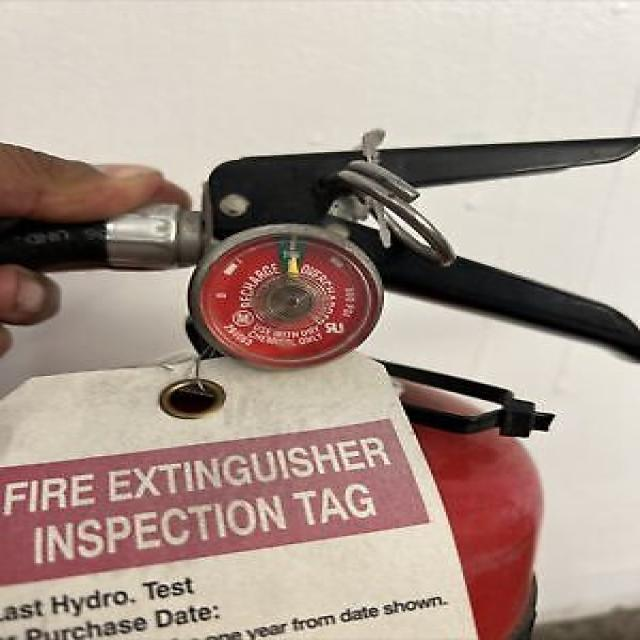pressure gauge: (189, 224, 383, 368)
